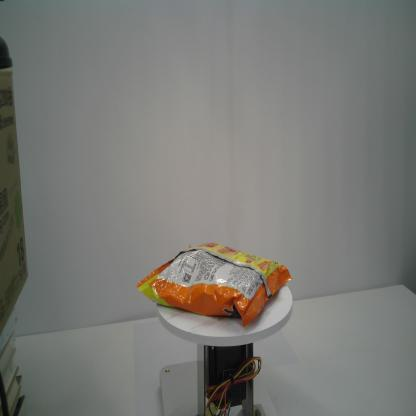Instant Noodles: (137, 242, 293, 328)
